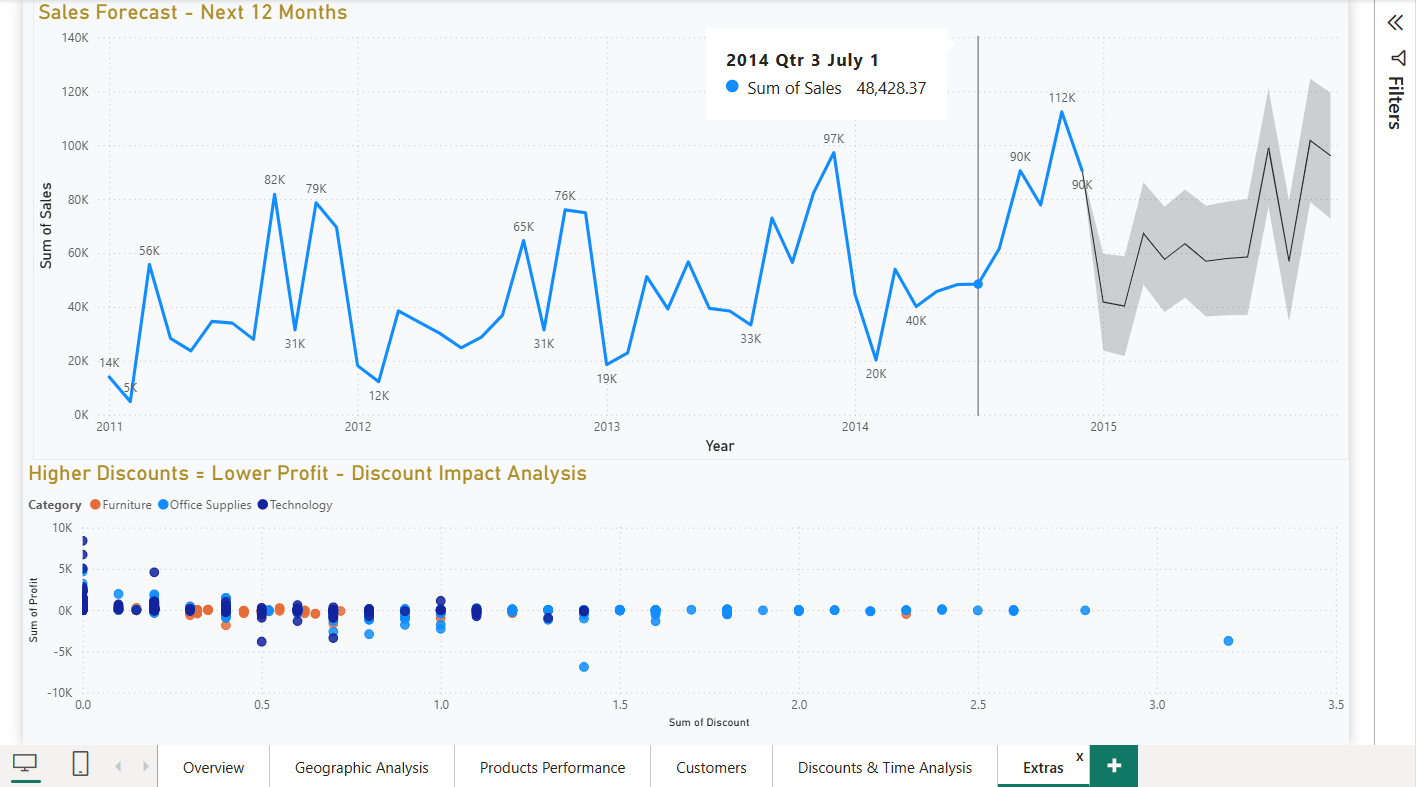

What the dashboard file says about the page in this screenshot:
{"tool":"powerbi","page":{"name":"Extras ","canvas":[1280,720],"ordinal":5},"visuals":[{"type":"lineChart","title":"Sales Forecast - Next 12 Months","fields":{"Y":["Sum(Orders.Sales)"],"Category":["Orders.MonthYear.Variation.Date Hierarchy.Year","Orders.MonthYear.Variation.Date Hierarchy.Quarter","Orders.MonthYear.Variation.Date Hierarchy.Month","Orders.MonthYear.Variation.Date Hierarchy.Day"]},"box":[9.8,0,1270.5,445.1],"z":0},{"type":"scatterChart","title":"Higher Discounts = Lower Profit - Discount Impact Analysis","fields":{"X":["Sum(Orders.Discount)"],"Y":["Sum(Orders.Profit)"],"Series":["Products.Category"],"Category":["Orders.Order ID"]},"box":[0,445.1,1280.3,264.1],"z":1000}]}

Visuals, with their boxes on the page's 1280x720 design canvas (x1, y1, x2, y2). These are canvas units, not pixel positions in the 1416x787 screenshot, which may show the page scaled, cropped or inside an application window:
"Sales Forecast - Next 12 Months" lineChart: (x1=10, y1=0, x2=1280, y2=445)
"Higher Discounts = Lower Profit - Discount Impact Analysis" scatterChart: (x1=0, y1=445, x2=1280, y2=709)
